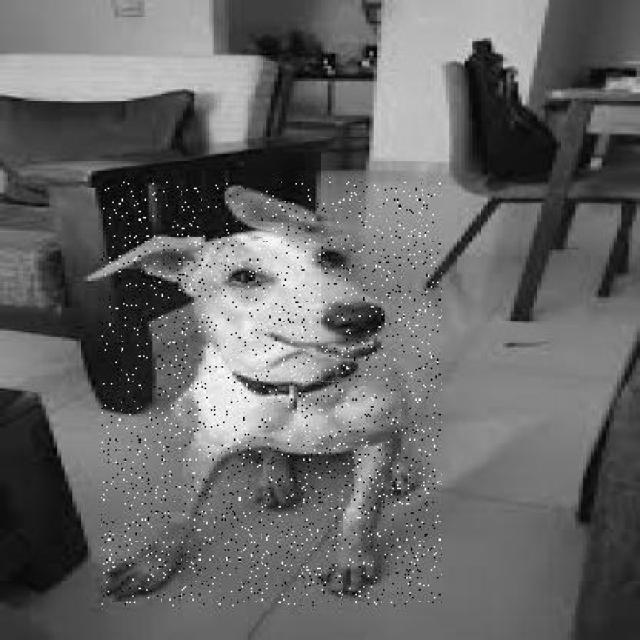Dog: (100, 182, 443, 608)
